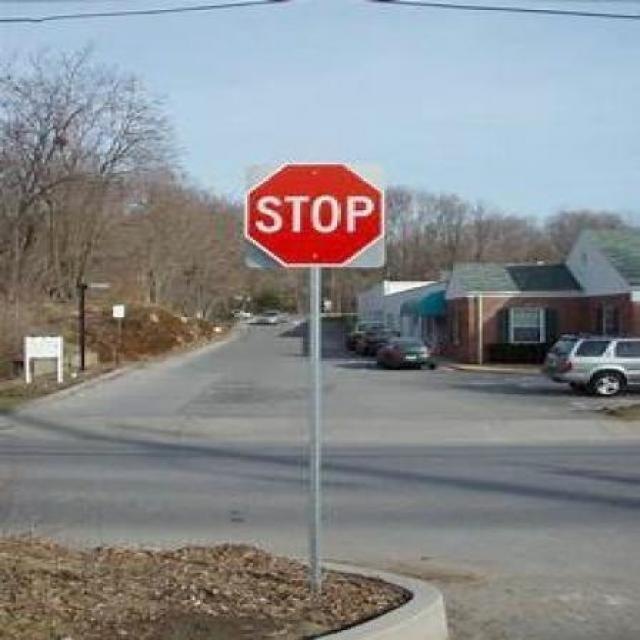Stop-Sign: (244, 162, 384, 266)
